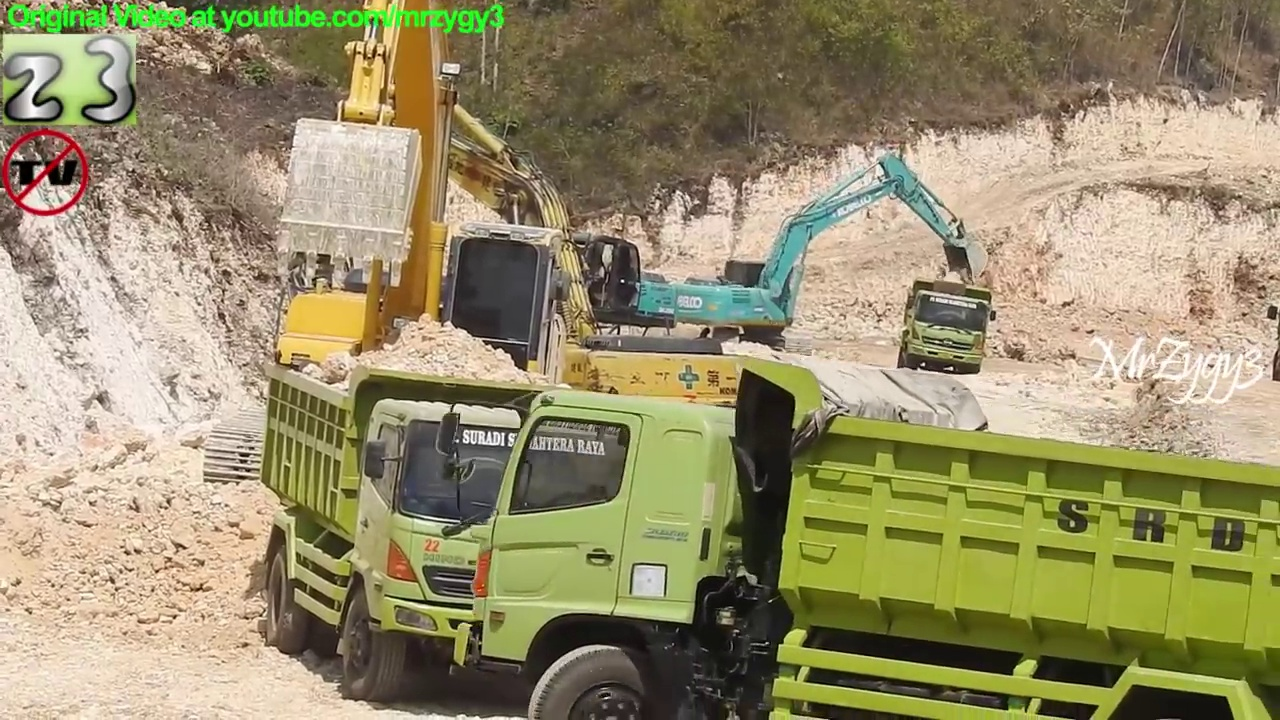excavator: (284, 76, 785, 489), (199, 2, 607, 503), (668, 147, 992, 359), (384, 150, 686, 375)
truck: (468, 361, 1276, 720), (257, 359, 658, 713), (898, 274, 1002, 375)
